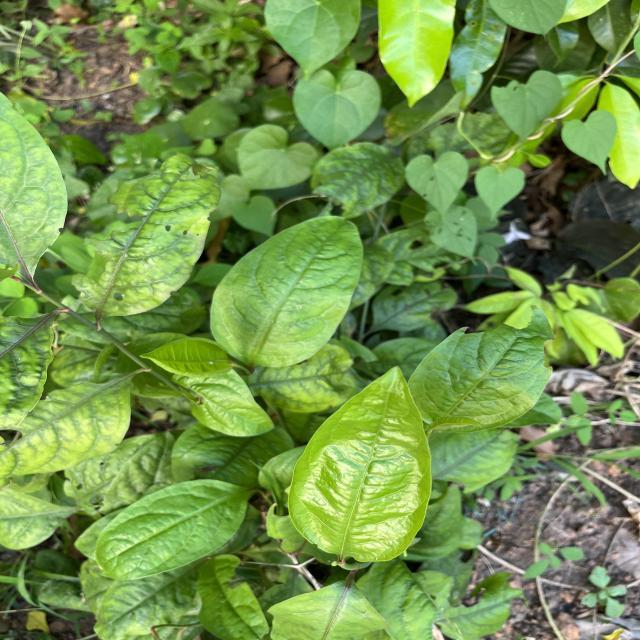Plumbago indica: (287, 363, 434, 566), (205, 213, 364, 372), (406, 300, 557, 438), (93, 478, 254, 581)
